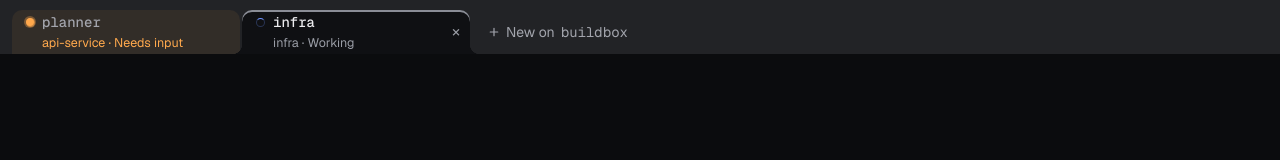
Test: SessionRow › tab_tooltip_has_status_and_shortcut
Hover over the button "infra infra · Working" at (345, 32), box [242,10,448,54]
Wait 350 ms
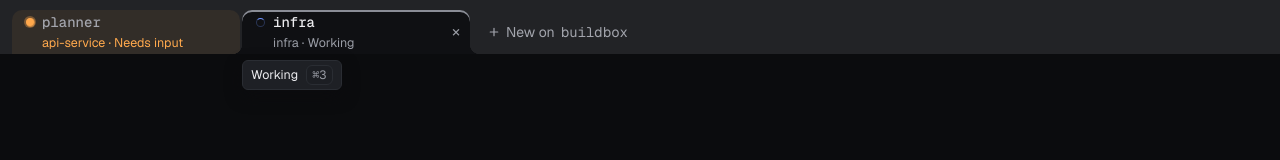
Result: the element with class "tooltip" reads "Working ⌘3" at [242,60,342,90]
